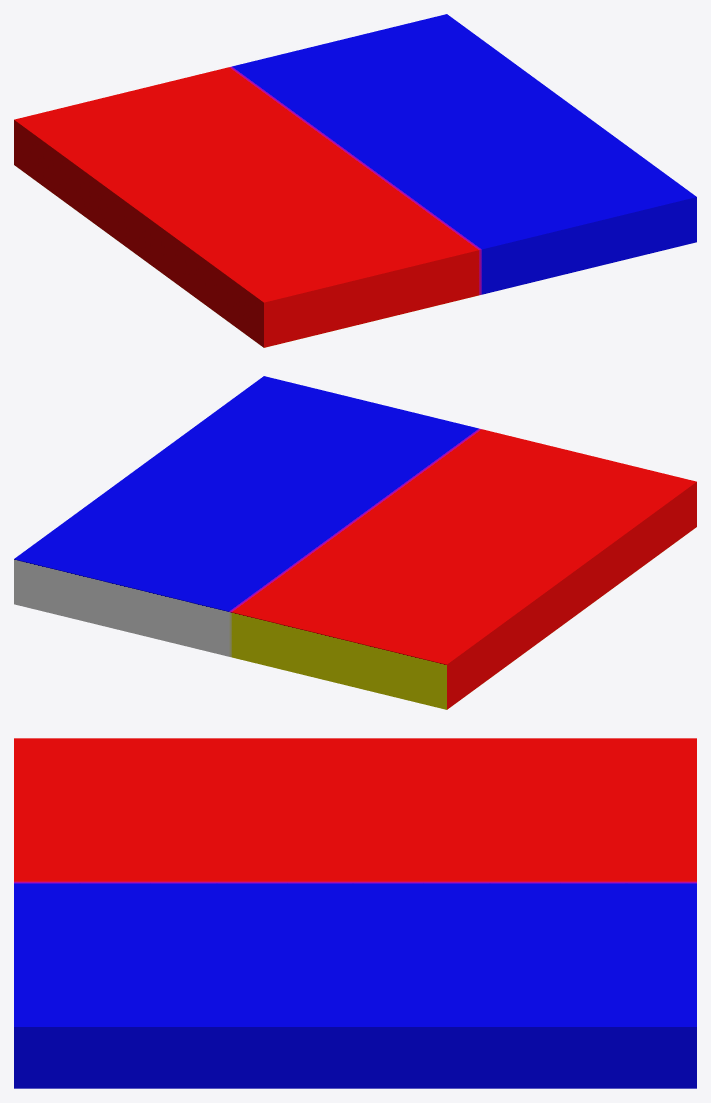
Rendered from froer2.fbx.
3 views of the same model, one above another, from view 1: azimuth 30°, elevation 25°; view 2: azimuth 150°, elevation 25°; view 3: azimuth 270°, elevation 25° (orthographic). The views are drawn at different scales.
Visible parts, largest first — view 1: pCube2; view 2: pCube2; view 3: pCube2.
Boxes of the visible parts, x1,y1,x2,y2 form: pCube2: (14,14,696,347); pCube2: (14,376,696,709); pCube2: (14,738,696,1088).
Size of the model in its own units: 2 by 0.2 by 2.
Materials: 1 (1 with a texture image).
